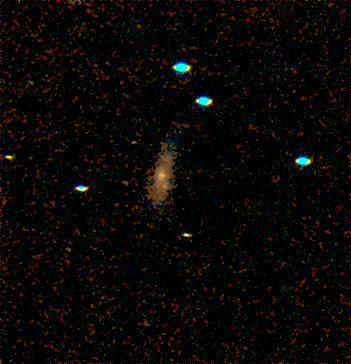star: (167, 218, 197, 248)
